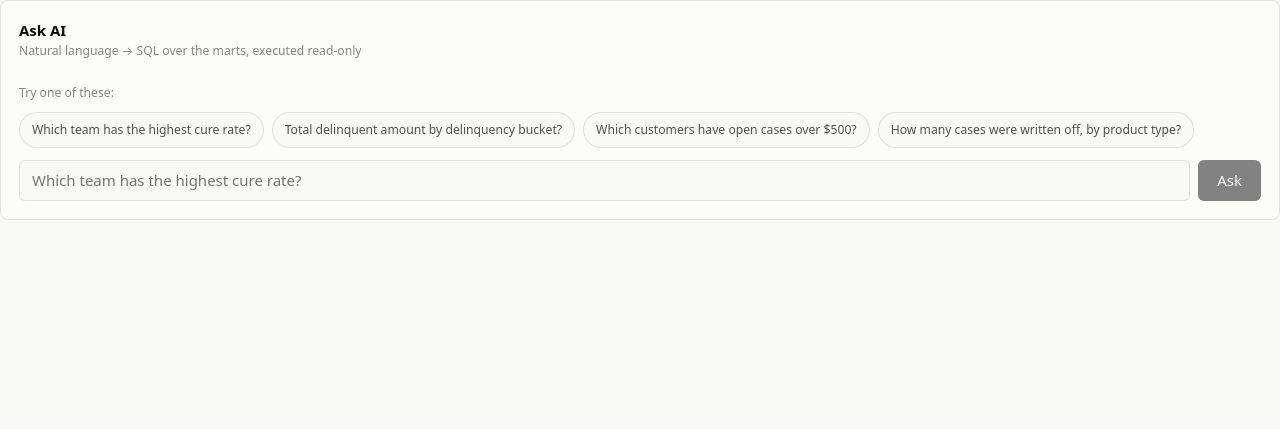
Test: ChatPage › sends the typed question on submit and clears the box
Type "how many open cases?" into the field named "Ask a question about the collections data" at (605, 181), box [19,160,1190,201]
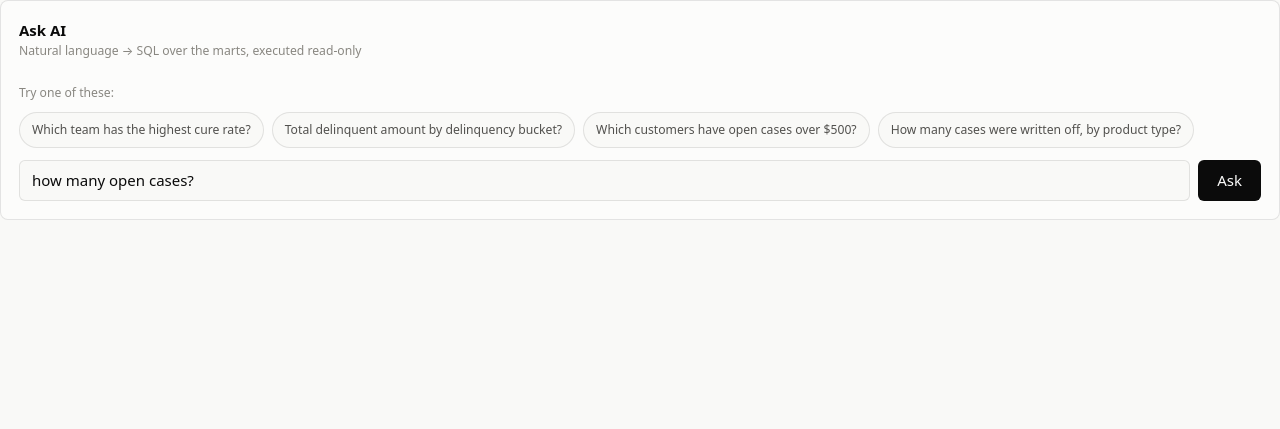
Submit the form named "Ask a question about the collections data", box [19,160,1261,201]
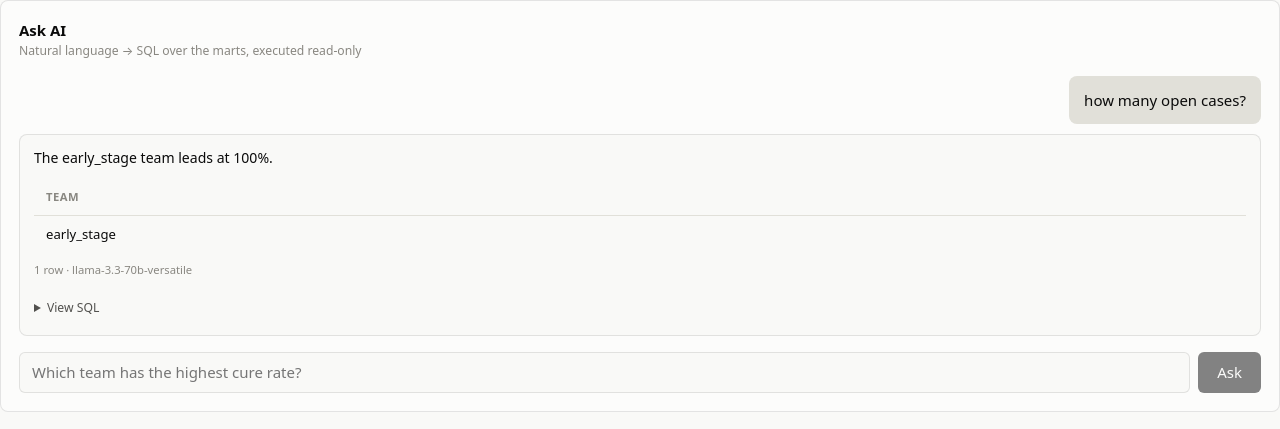
Expected: the text "how many open cases?" is shown, [1069,76,1261,124]
Expected: the field named "Ask a question about the collections data" is empty, [19,352,1190,393]
